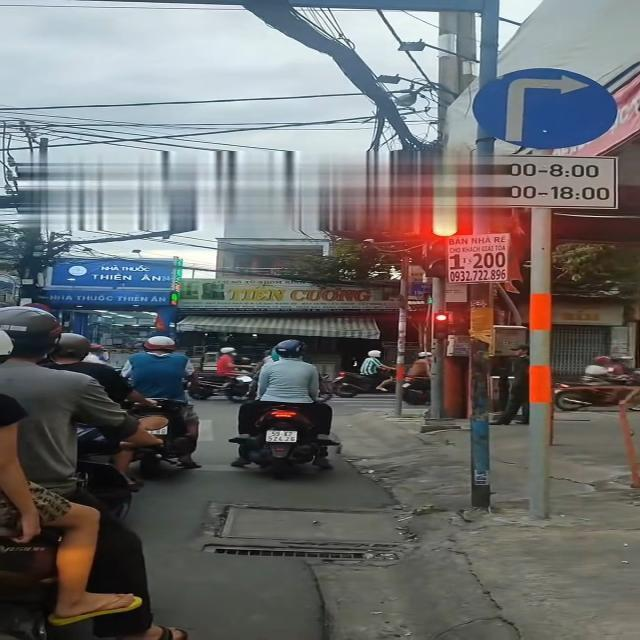301d-cac-xe-chi-duoc-re-phai-2: (472, 66, 624, 150)
